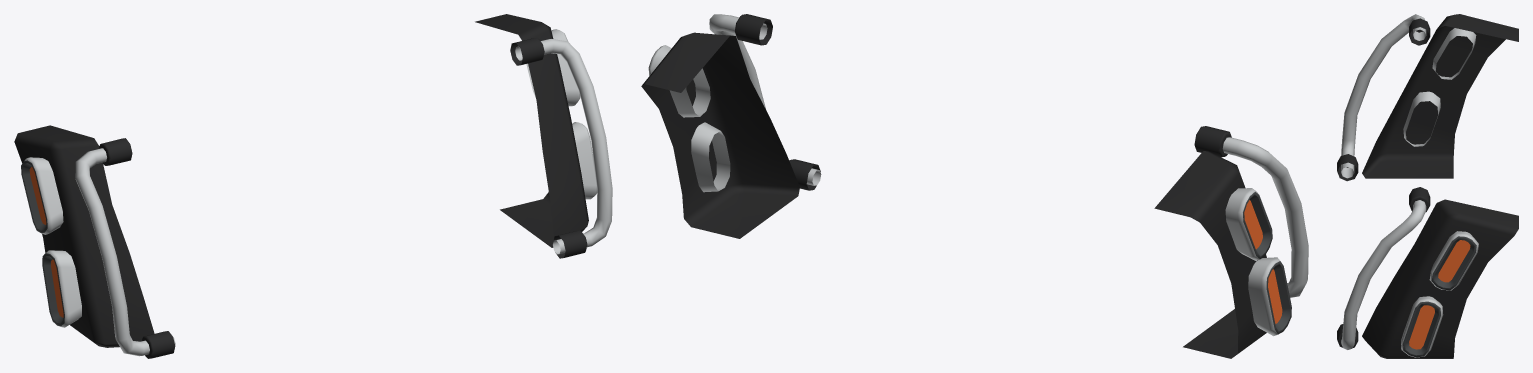
Rendered from Car_15_Turbine.fbx.
3 views of the same model, side by side, from view 1: azimuth 30°, elevation 25°; view 2: azimuth 150°, elevation 25°; view 3: azimuth 270°, elevation 25° (orthographic). The views are drawn at different scales.
Parts seen in each view (by area): view 1: Car_15_Turbine; view 2: Car_15_Turbine; view 3: Car_15_Turbine.
Part boxes in pixels (x1=…): Car_15_Turbine: x1=14, y1=14, x2=612, y2=358; Car_15_Turbine: x1=641, y1=14, x2=1308, y2=358; Car_15_Turbine: x1=1337, y1=14, x2=1518, y2=358.
Bounding box in the file's own units: 202 × 71.07 × 66.56.
